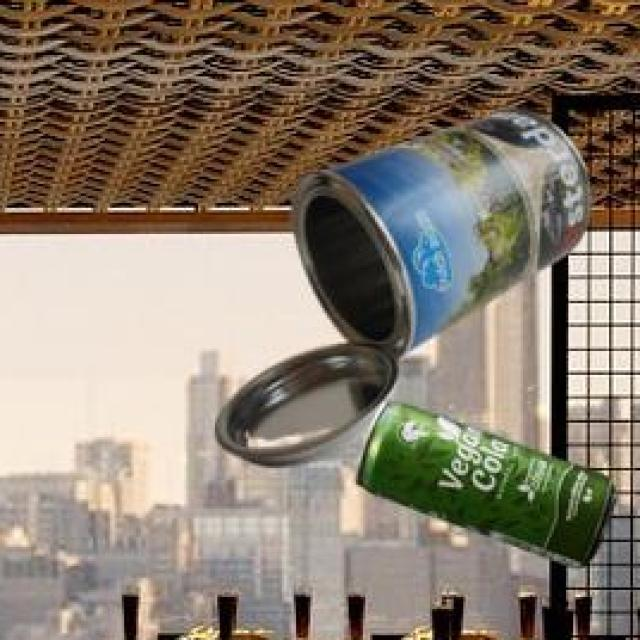logam: (211, 106, 586, 462), (352, 398, 613, 565)
